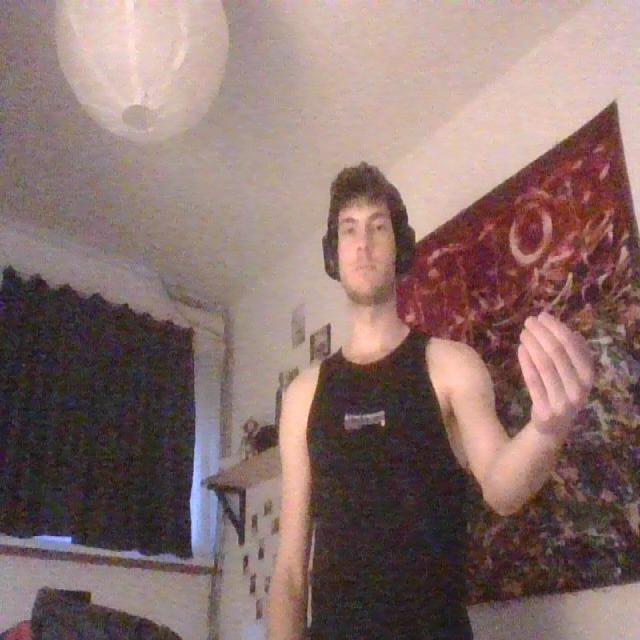forward: (512, 301, 602, 439)
